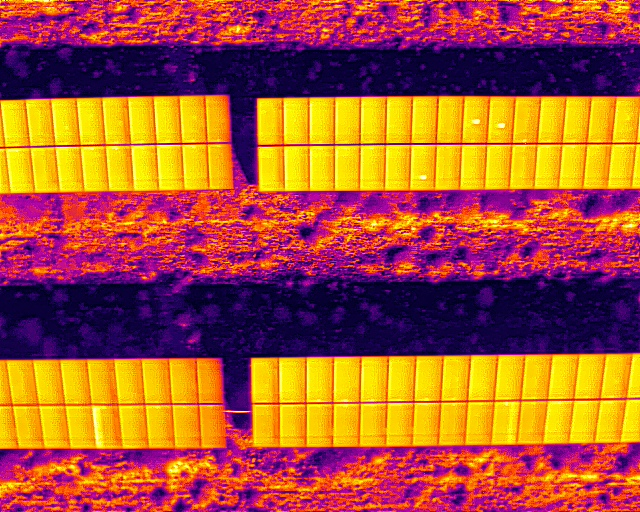photovoltaic_panels: (250, 91, 636, 198), (246, 351, 636, 452), (4, 92, 239, 198), (3, 353, 232, 453)
single_spot: (461, 93, 490, 144), (408, 143, 435, 190), (490, 94, 515, 144)
stripe_spot: (91, 404, 122, 450), (490, 400, 519, 445)
